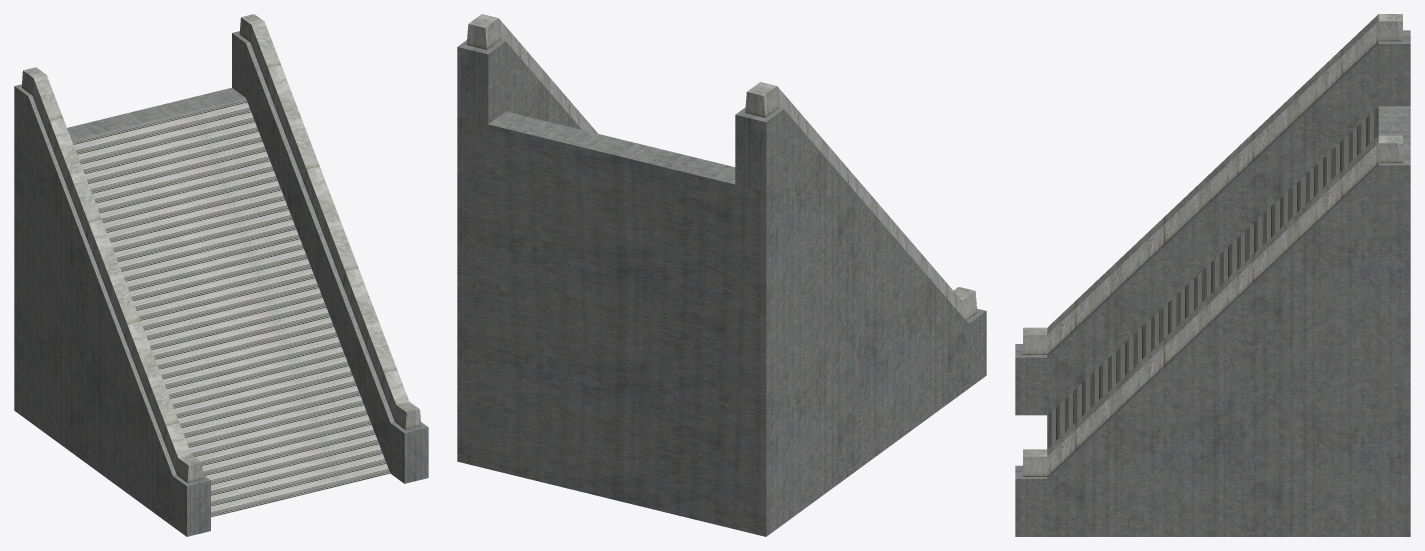
File: thm_corl_imprv_stair_medium_s01_l1.fbx
3 views of the same model, side by side, from view 1: azimuth 30°, elevation 25°; view 2: azimuth 150°, elevation 25°; view 3: azimuth 270°, elevation 25° (orthographic). The views are drawn at different scales.
Visible parts, largest first — view 1: mesh_node; view 2: mesh_node; view 3: mesh_node.
Boxes of the visible parts, x1=… form: mesh_node: x1=14, y1=14, x2=428, y2=536; mesh_node: x1=457, y1=14, x2=986, y2=536; mesh_node: x1=1015, y1=14, x2=1410, y2=536.
Bounding box in the file's own units: 7.5 × 10.12 × 9.27.
